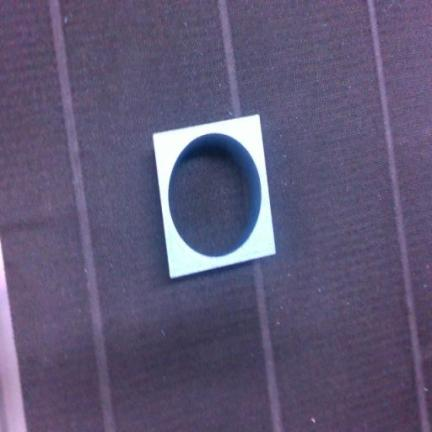square: (154, 115, 275, 278)
